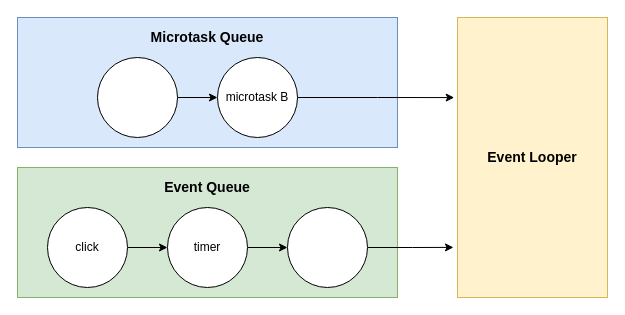
This 625x315 diagram has some shape labels left out. Here are the shapes that lost their labels. From the top down, the centre of each, then its label:
(137,97): microtask A
(327,247): key
